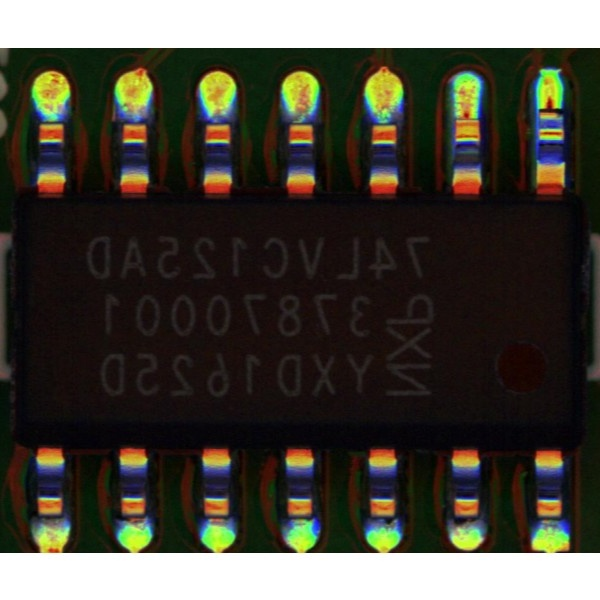Bad_podu: (541, 96, 559, 125), (458, 103, 472, 132)
